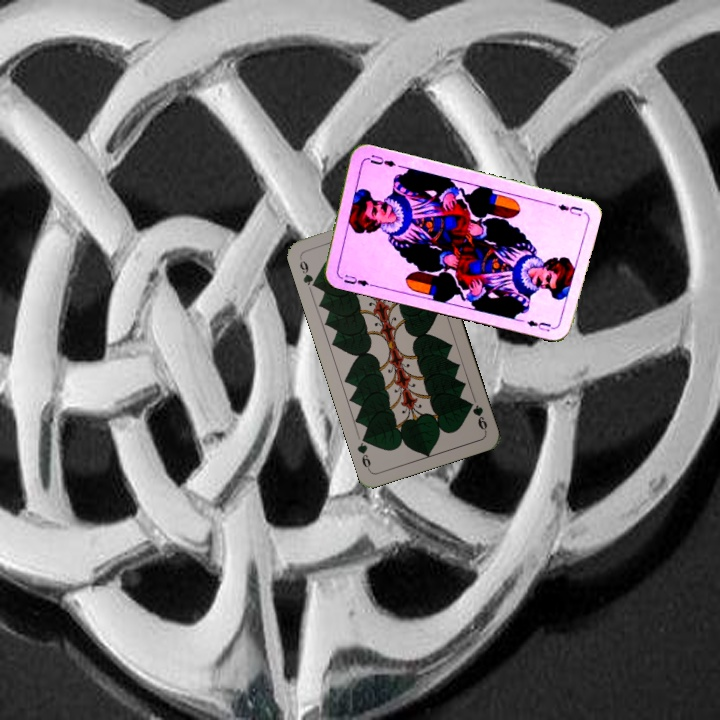EU: (340, 270, 373, 289), (554, 200, 585, 219)
G9: (295, 253, 320, 293), (464, 397, 490, 434)
